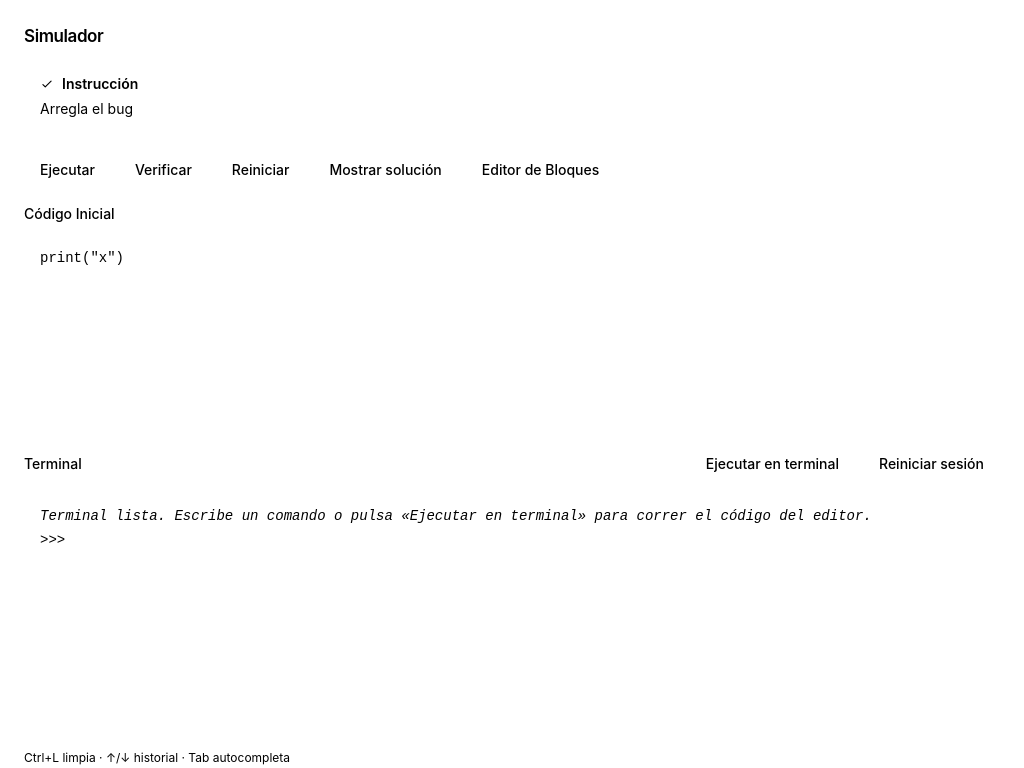
Test: SimulatorPanel reto de bloques › sin bloques requeridos la verify no añade el resultado del reto
What coordinates should you click on to do the following:
click the button "Verificar"
I would click on:
 (163, 170)
Its box is [119,152,208,188].
(page scrolled)
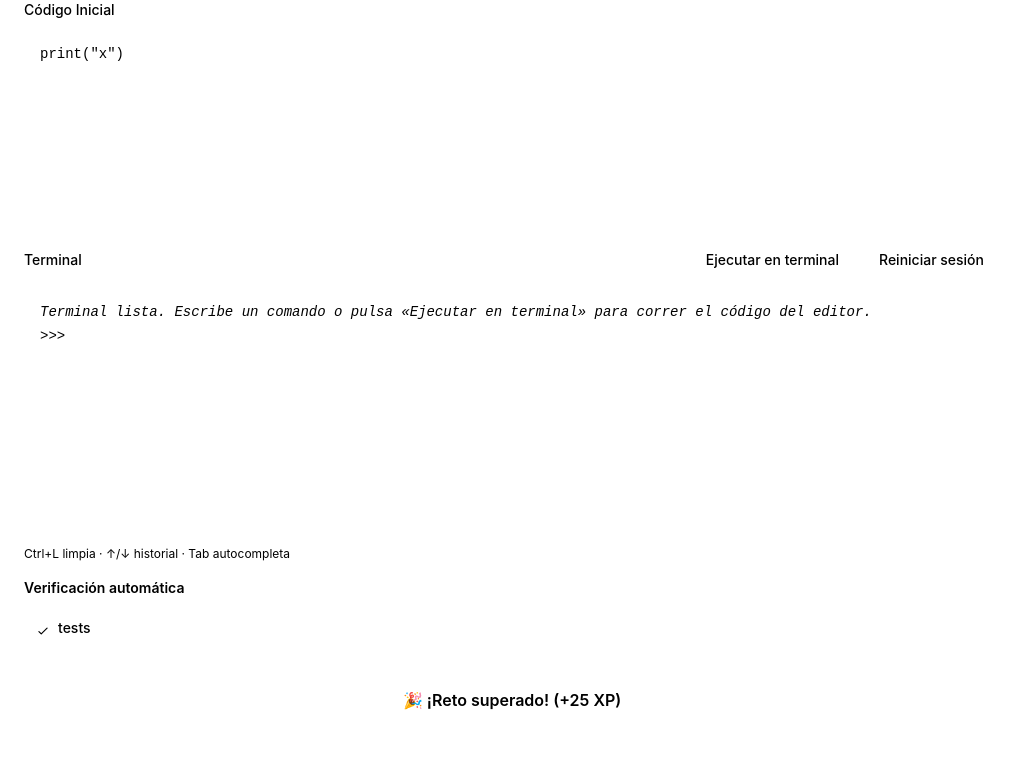
Check: the text "🎉 ¡Reto superado! (+25 XP)" is shown, box [403,690,621,710]
